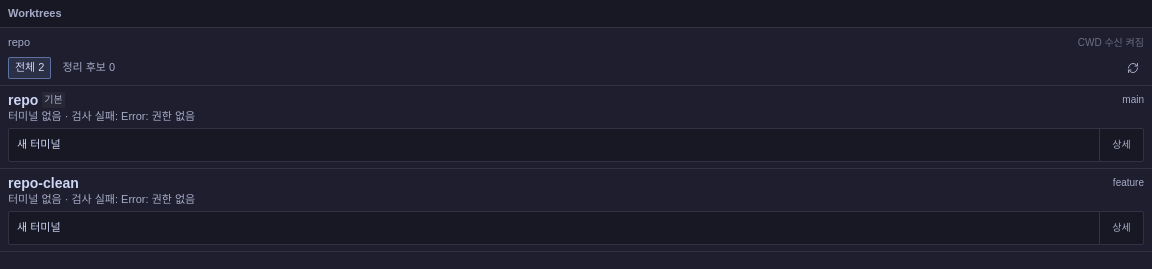
Test: WorktreeView › 검사 실패는 정리 가능 상태로 취급하지 않고 원인을 노출한다
The width and height of the screenshot is (1152, 269).
Expected: the text "feature" is shown, [1113, 174, 1144, 190]
Expected: the text "터미널 없음 · 검사 실패: Error: 권한 없음" is shown 2 times, [8, 108, 195, 124]; [8, 190, 195, 206]
Click the button "정리 후보 0".
click(89, 68)  # box [55, 56, 122, 78]
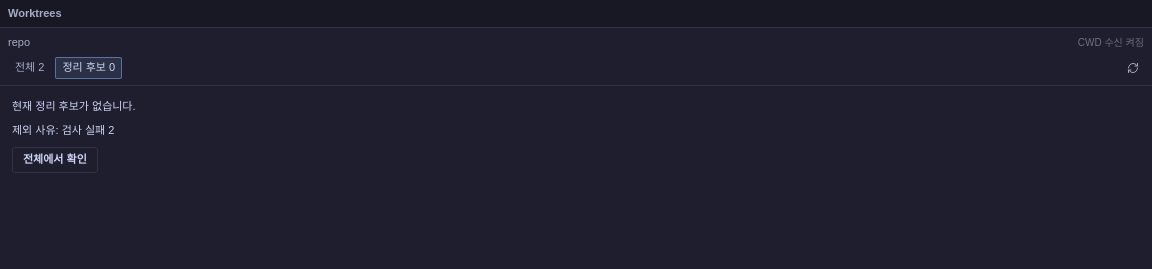
Expected: the text "feature" is gone
